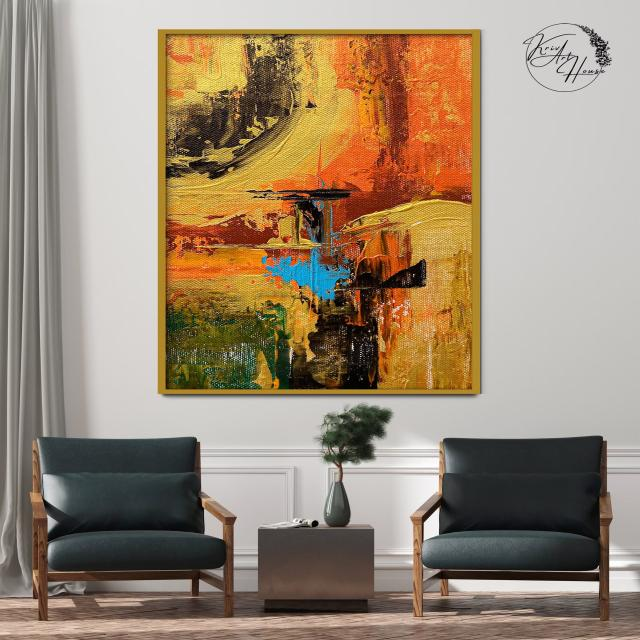painting: (157, 27, 482, 392)
